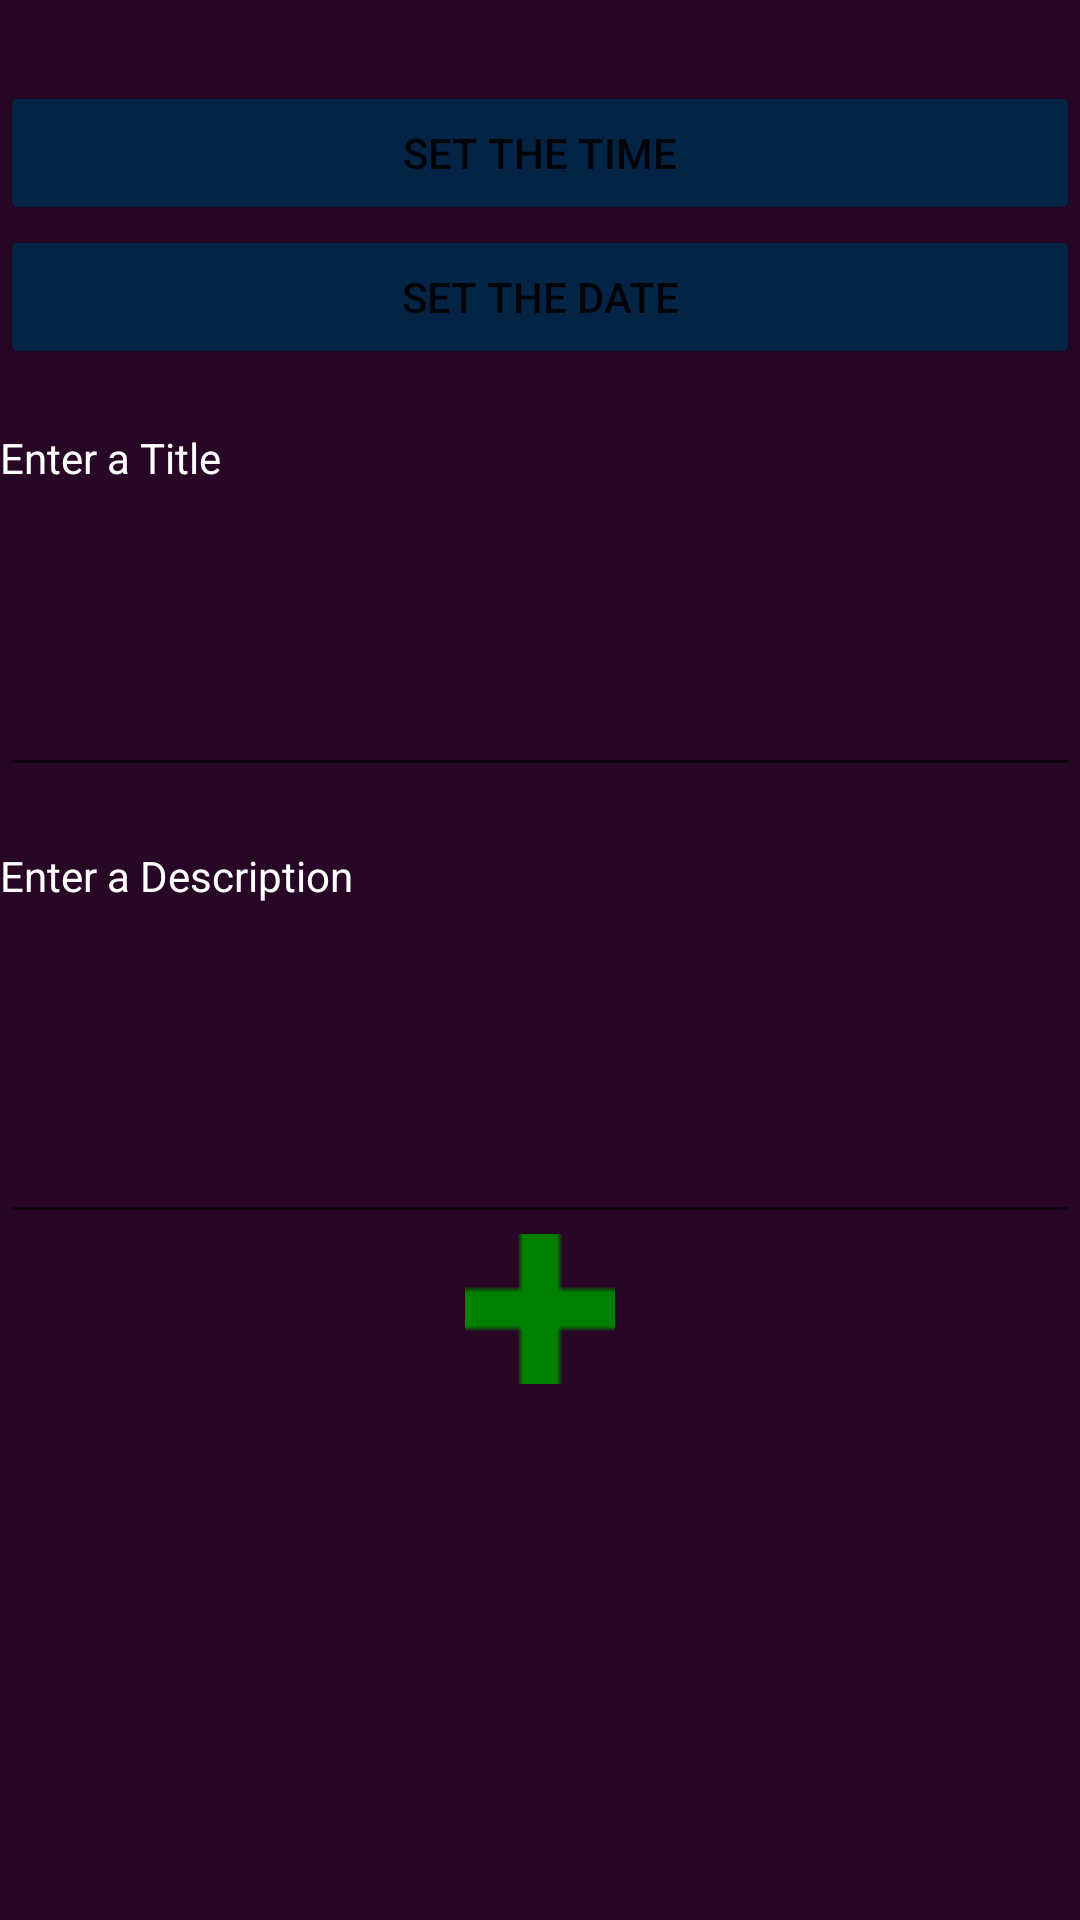

Point at icon controls on the screen. Image size 1080 × 1920, points as [x,y].
add: [540,1309]
